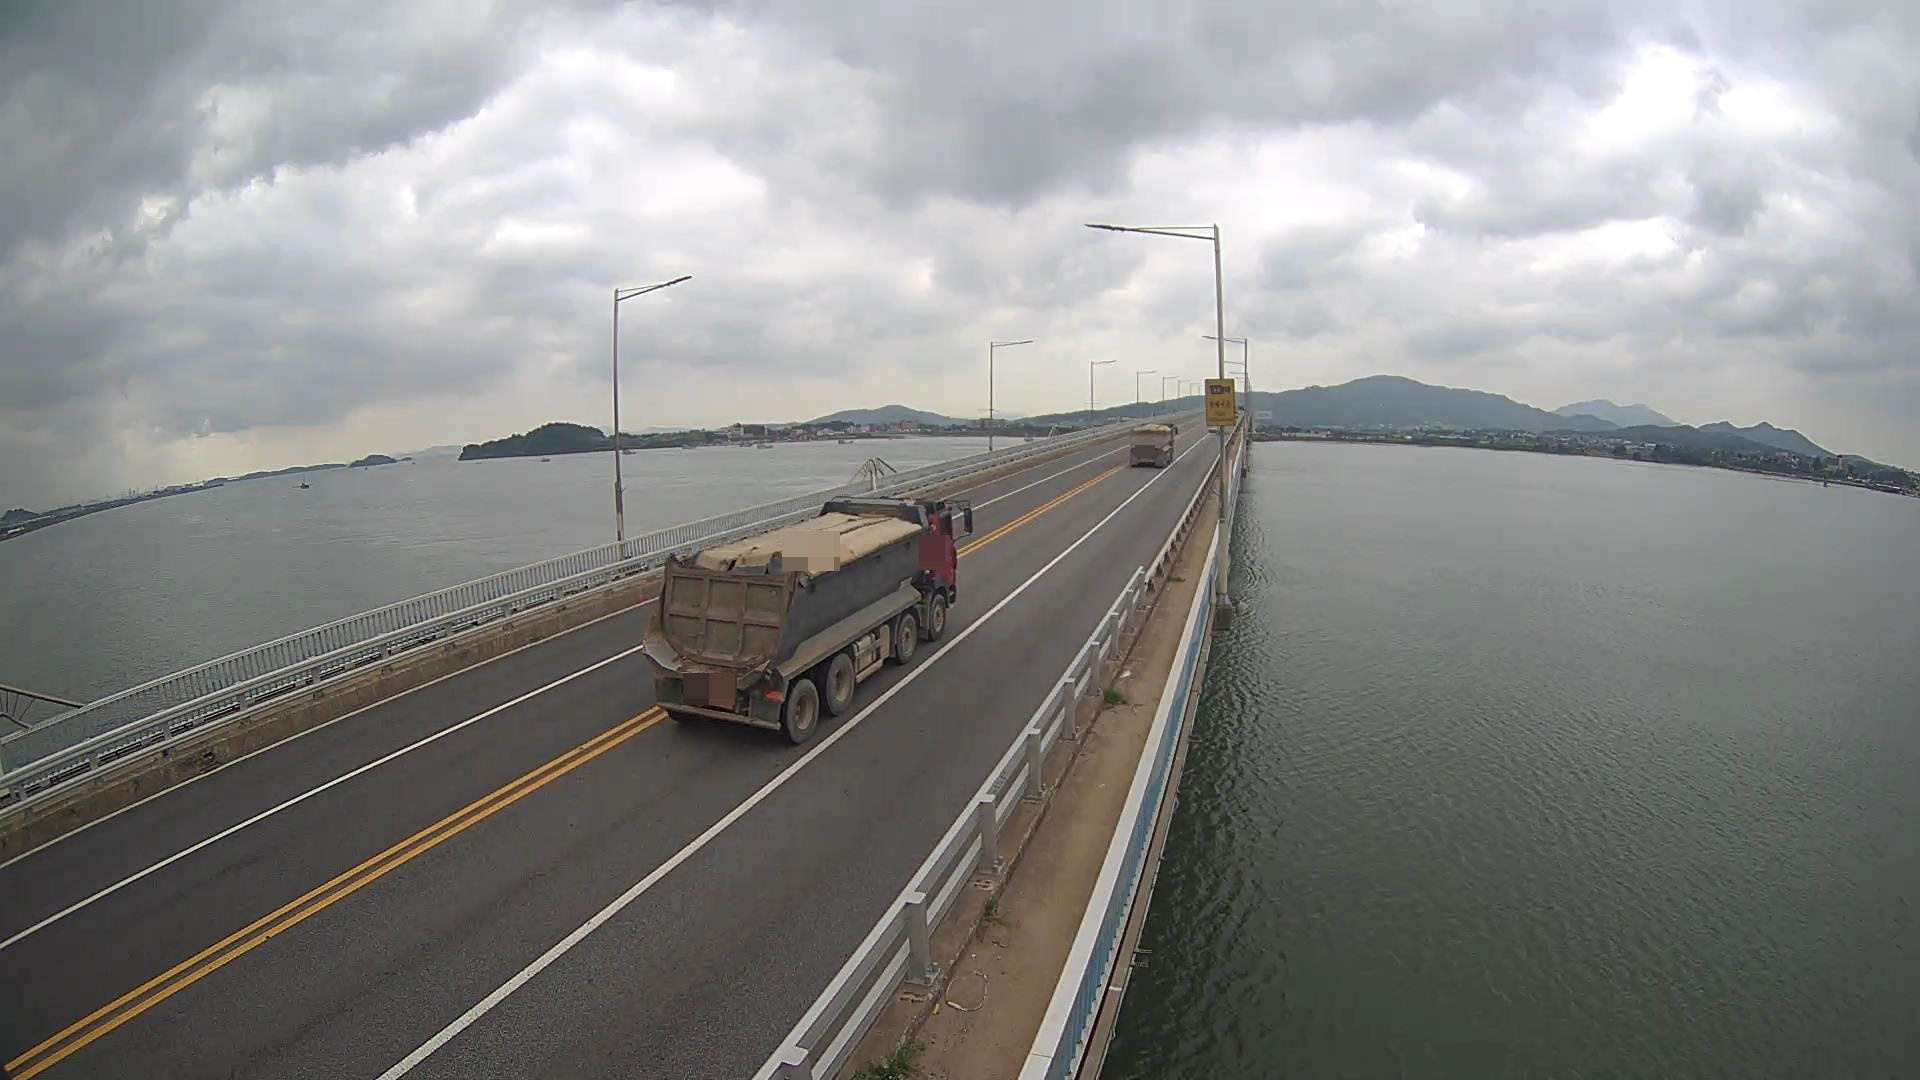정상차량: (642, 495, 973, 742)
